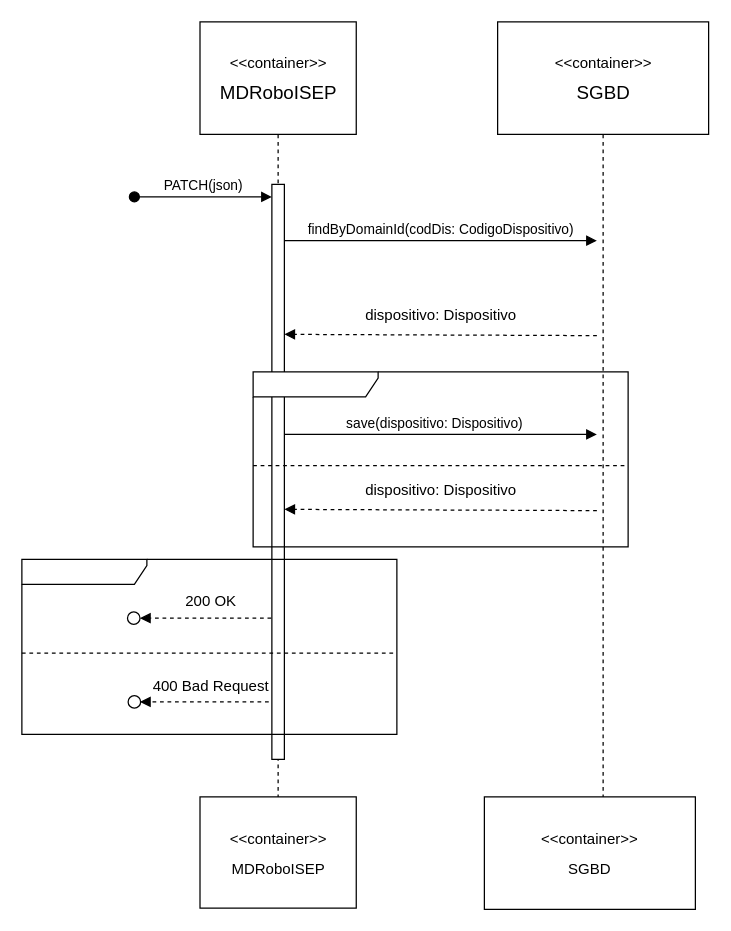
This 731x931 diagram has some shape labels left out. Each missing label, with the box of its shape:
alt: (21, 558, 397, 734)
loop: (252, 371, 628, 547)
